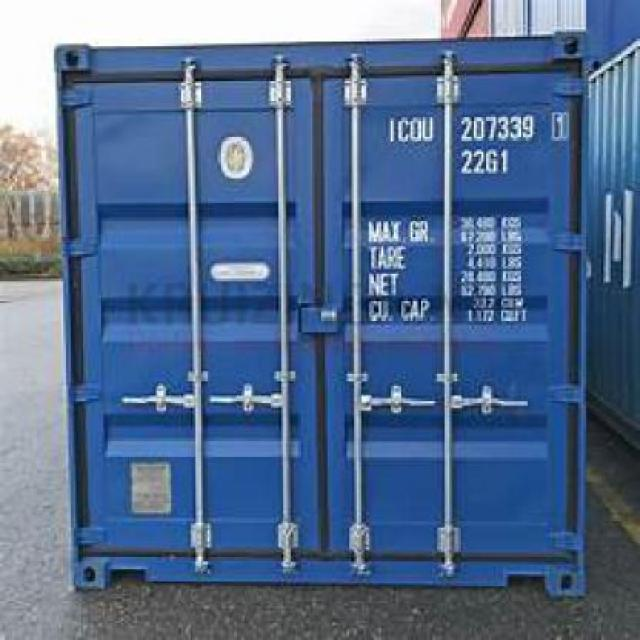ISO: (461, 148, 508, 174)
container_number: (383, 113, 561, 143)
